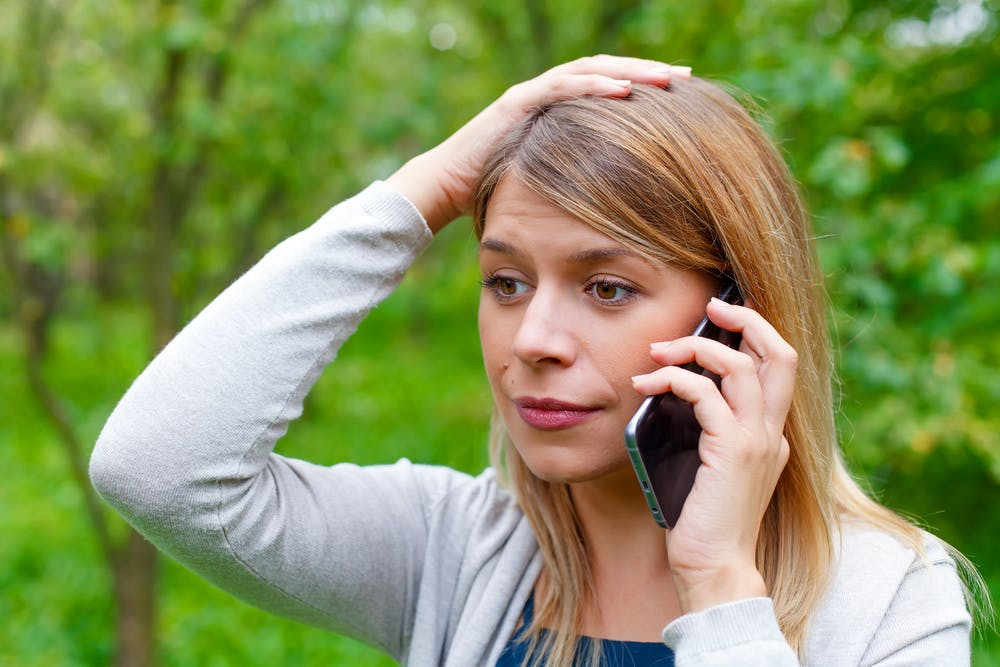without_mask: (483, 230, 674, 452)
